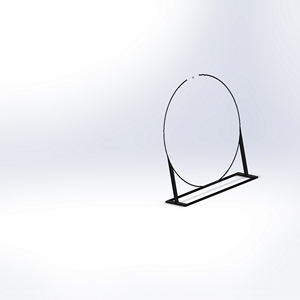circle: (159, 72, 261, 207)
